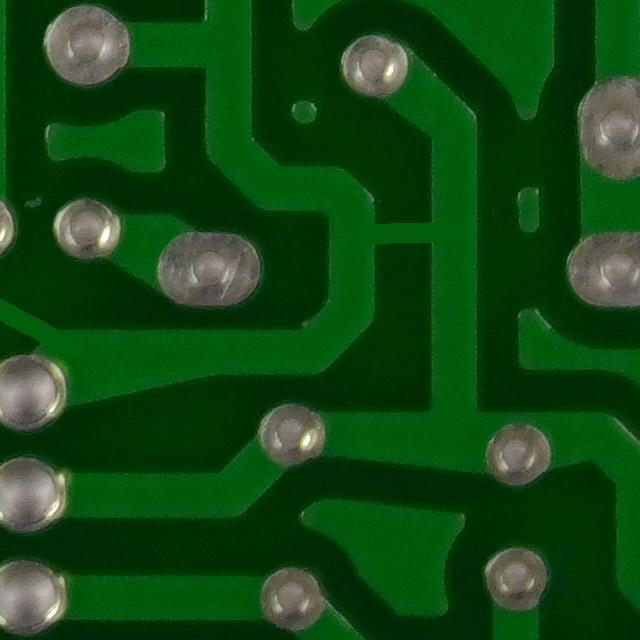short: (315, 180, 488, 293), (0, 236, 94, 400)
